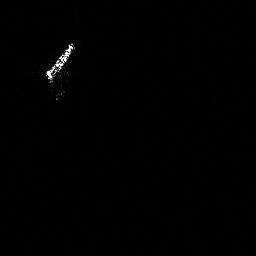ship: (43, 41, 77, 102)
